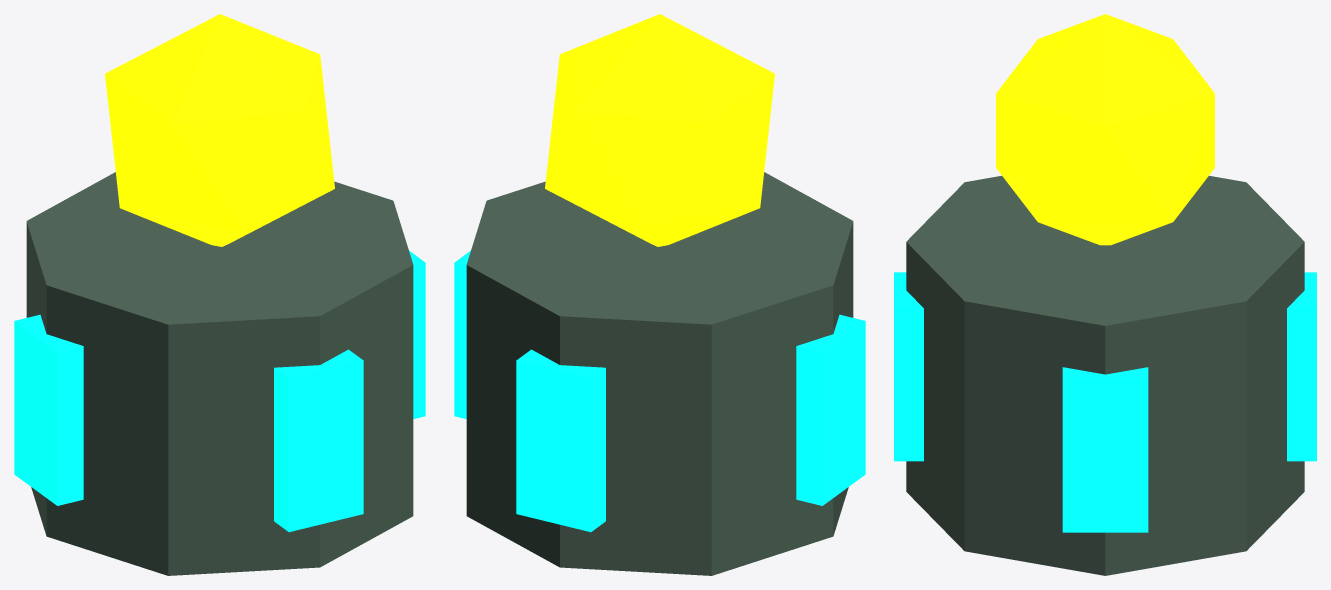
The model's file is item_zombie.glb.
3 renders of one model, left to right at view 1: azimuth 30°, elevation 25°; view 2: azimuth 150°, elevation 25°; view 3: azimuth 270°, elevation 25°, orthographic.
Parts seen in each view (by area): view 1: Cylinder, Icosphere, Cube.001, Cube; view 2: Cylinder, Icosphere, Cube.001, Cube; view 3: Cylinder, Icosphere, Cube, Cube.001.
Boxes of the visible parts, x1,y1,x2,y2 form: Cylinder: (26,172,413,575); Icosphere: (105,14,334,246); Cube.001: (274,349,363,532); Cube: (14,251,425,505); Cylinder: (466,172,853,575); Icosphere: (545,14,774,246); Cube.001: (516,349,605,532); Cube: (454,251,865,505); Cylinder: (906,175,1304,575); Icosphere: (996,14,1214,245); Cube: (1062,367,1148,532); Cube.001: (894,272,1316,461).
Bounding box in the file's own units: 1.38 × 1.72 × 1.38.
